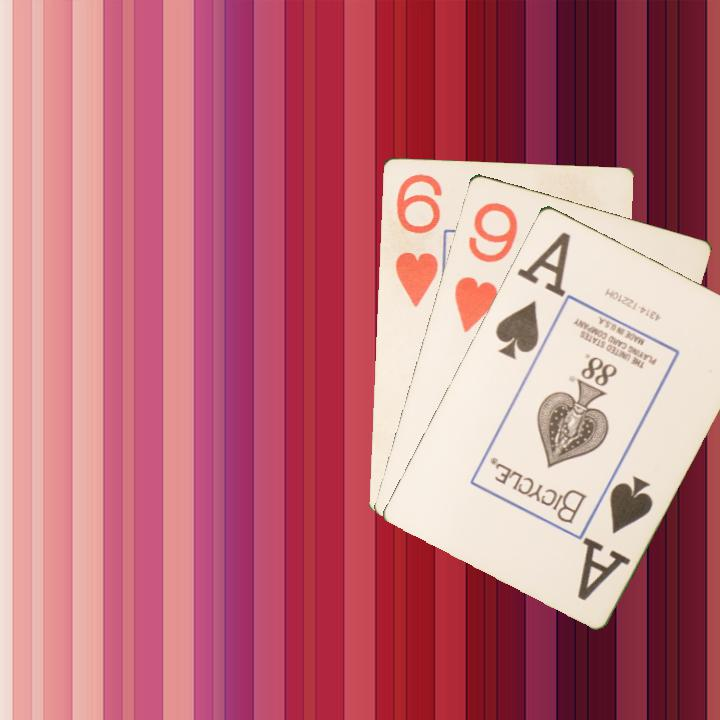6h: (388, 170, 443, 310)
9h: (450, 198, 521, 335)
As: (573, 471, 656, 603), (491, 240, 565, 362)
